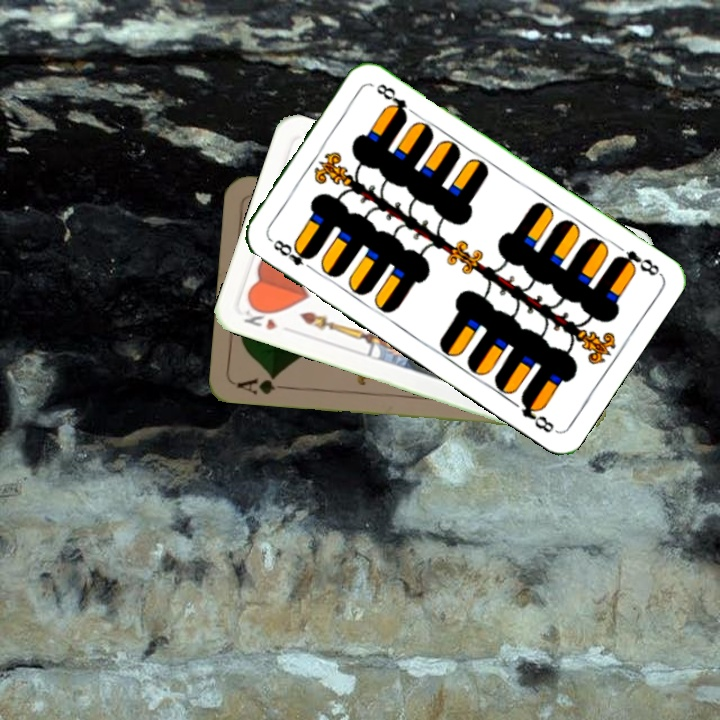E8: (266, 234, 317, 274), (610, 246, 663, 279)
GA: (233, 371, 292, 397)
HK: (239, 306, 279, 333)
